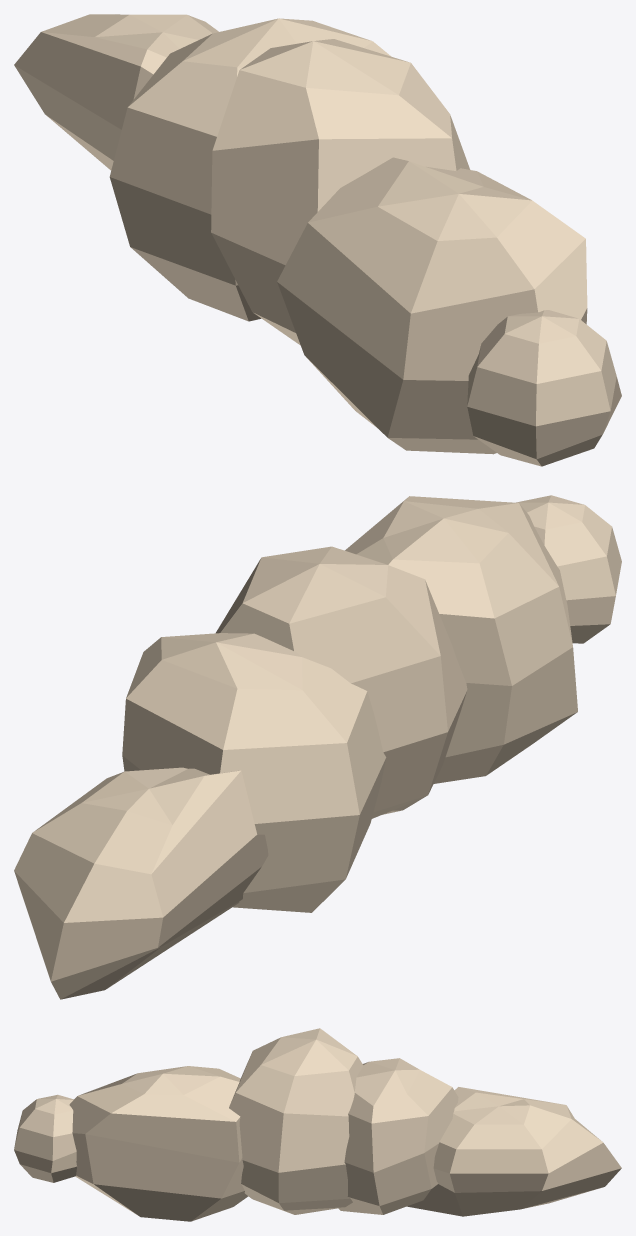
Rendered from Cloud1.fbx.
The picture shows the model from 3 angles, top to bottom: view 1: azimuth 30°, elevation 25°; view 2: azimuth 150°, elevation 25°; view 3: azimuth 270°, elevation 25°; orthographic projection. The views are drawn at different scales.
Visible parts, largest first — view 1: Cloud1; view 2: Cloud1; view 3: Cloud1.
Part boxes in pixels (left/top/right/bottom): Cloud1: left=14, top=14, right=621, bottom=466; Cloud1: left=14, top=495, right=621, bottom=999; Cloud1: left=14, top=1028, right=621, bottom=1221.
Bounding box in the file's own units: 112 × 122 × 390.
